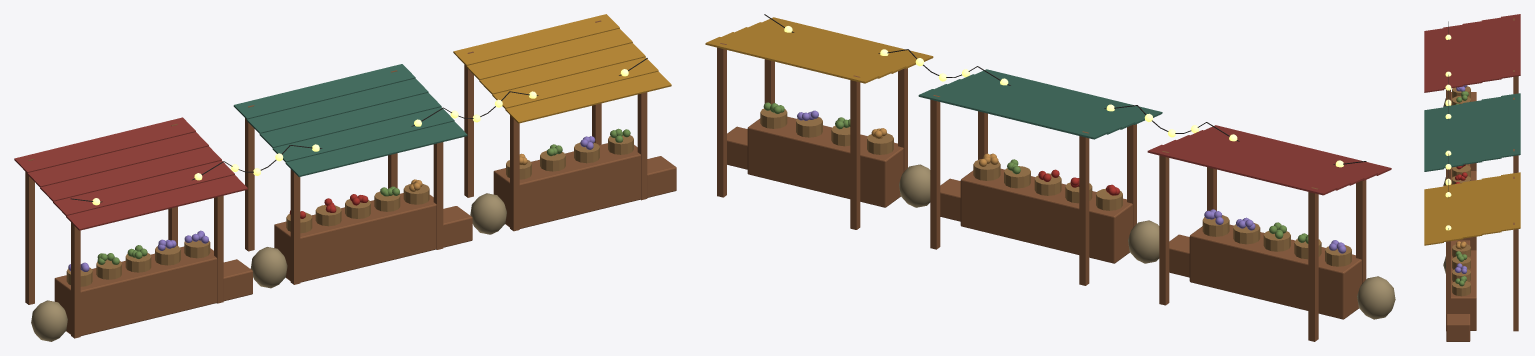
The model's file is mercado.glb.
3 renders of one model, left to right at view 1: azimuth 30°, elevation 25°; view 2: azimuth 150°, elevation 25°; view 3: azimuth 270°, elevation 25°, orthographic. The views are drawn at different scales.
Visible parts, largest first — view 1: puesto0_mostrador, puesto1_mostrador, puesto2_mostrador, puesto1_toldo_0, puesto0_toldo_0, puesto1_toldo_4, puesto0_toldo_4, puesto1_toldo_3, puesto0_toldo_3, puesto1_toldo_2, puesto0_toldo_2, puesto0_toldo_1 (+21 smaller); view 2: puesto0_mostrador, puesto1_mostrador, puesto2_mostrador, puesto1_toldo_4, puesto0_toldo_4, puesto2_toldo_4, puesto0_poste.002, puesto2_poste.002, puesto1_poste.002, puesto0_poste.003, puesto1_poste.003, puesto0_toldo_2 (+21 smaller); view 3: puesto1_toldo_2, puesto0_toldo_2, puesto0_toldo_3, puesto0_toldo_0, puesto0_toldo_4, puesto1_toldo_4, puesto1_toldo_0, puesto1_toldo_3, puesto0_toldo_1, puesto1_toldo_1, puesto2_toldo_4, puesto2_toldo_2 (+18 smaller).
Boxes of the visible parts, x1,y1,x2,y2 form: puesto0_mostrador: (54,246,217,335); puesto1_mostrador: (274,193,436,282); puesto2_mostrador: (493,143,640,228); puesto1_toldo_0: (285,121,467,176); puesto0_toldo_0: (66,175,247,230); puesto1_toldo_4: (233,64,415,119); puesto0_toldo_4: (14,117,195,172); puesto1_toldo_3: (246,78,428,133); puesto0_toldo_3: (27,132,208,187); puesto1_toldo_2: (259,92,441,147); puesto0_toldo_2: (40,146,221,201); puesto0_toldo_1: (53,160,234,215); puesto0_mostrador: (1189,224,1361,319); puesto1_mostrador: (960,168,1132,263); puesto2_mostrador: (747,116,903,207); puesto1_toldo_4: (918,89,1108,139); puesto0_toldo_4: (1147,144,1337,195); puesto2_toldo_4: (705,37,879,83); puesto0_poste.002: (1308,187,1318,341); puesto2_poste.002: (850,75,860,229); puesto1_poste.002: (1079,131,1089,285); puesto0_poste.003: (1159,151,1169,305); puesto1_poste.003: (930,95,940,249); puesto0_toldo_2: (1177,135,1364,185); puesto1_toldo_2: (1462,100,1482,164); puesto0_toldo_2: (1462,21,1482,85); puesto0_toldo_3: (1481,17,1501,82); puesto0_toldo_0: (1424,28,1443,92); puesto0_toldo_4: (1501,14,1520,78); puesto1_toldo_4: (1501,93,1520,157); puesto1_toldo_0: (1424,107,1443,171); puesto1_toldo_3: (1481,97,1501,161); puesto0_toldo_1: (1443,24,1463,89); puesto1_toldo_1: (1443,104,1463,168); puesto2_toldo_4: (1501,172,1520,231); puesto2_toldo_2: (1462,179,1482,238).
Size of the model in its own units: 12.45 by 2.79 by 2.22.
